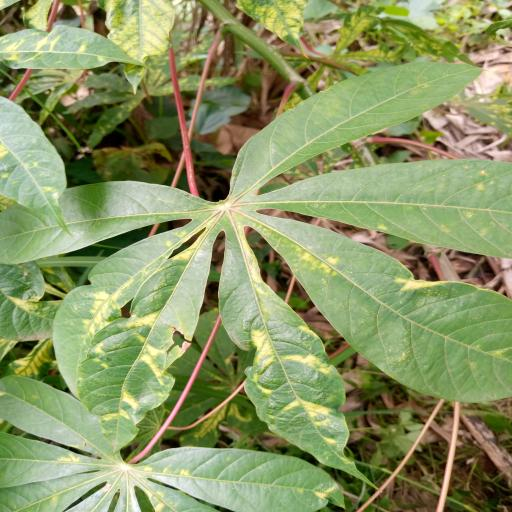Cassava_Mosaic: (0, 58, 512, 486)
